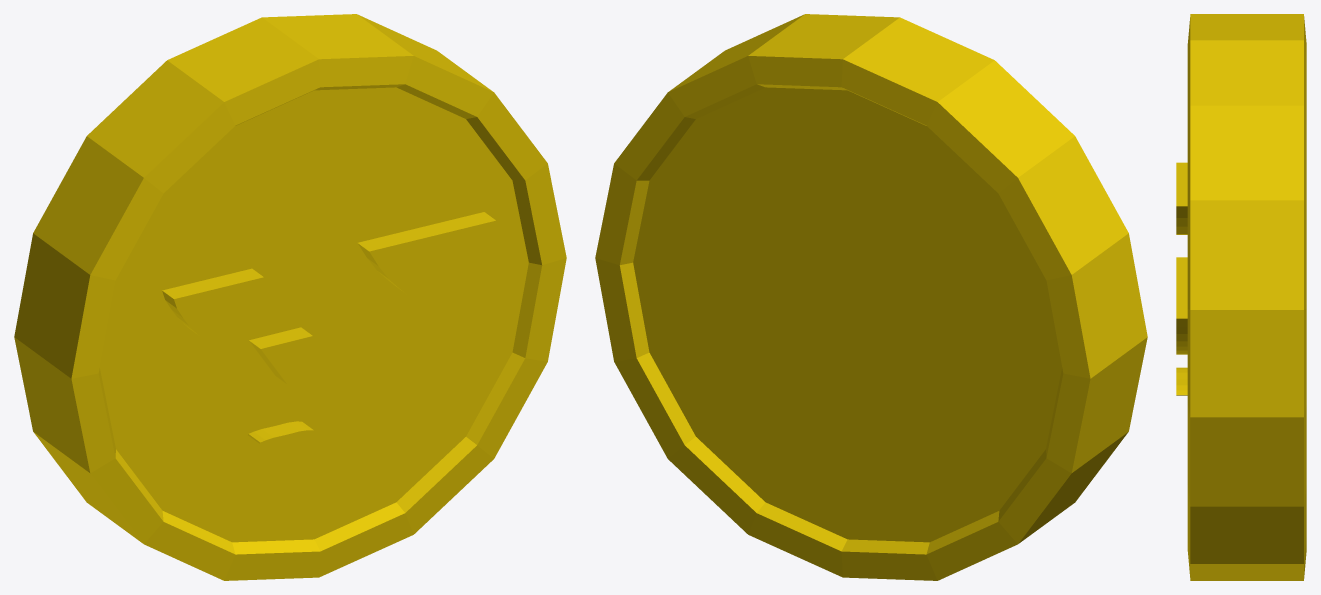
The model's file is coin.glb.
3 views of the same model, side by side, from view 1: azimuth 30°, elevation 25°; view 2: azimuth 150°, elevation 25°; view 3: azimuth 270°, elevation 25° (orthographic).
Parts seen in each view (by area): view 1: Circle; view 2: Circle; view 3: Circle.
Part boxes in pixels (left/top/right/bottom): Circle: left=14, top=14, right=566, bottom=580; Circle: left=595, top=14, right=1147, bottom=580; Circle: left=1176, top=14, right=1306, bottom=580.
Bounding box in the file's own units: 1 × 1 × 0.2294.
